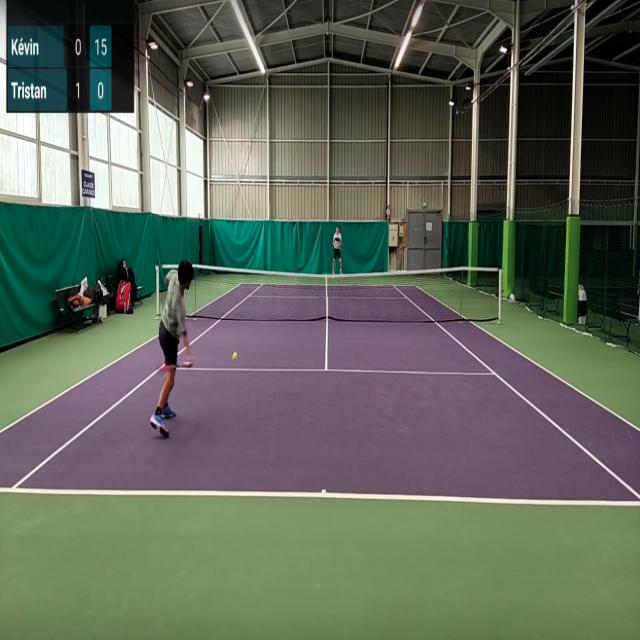ball: (232, 351, 237, 361)
